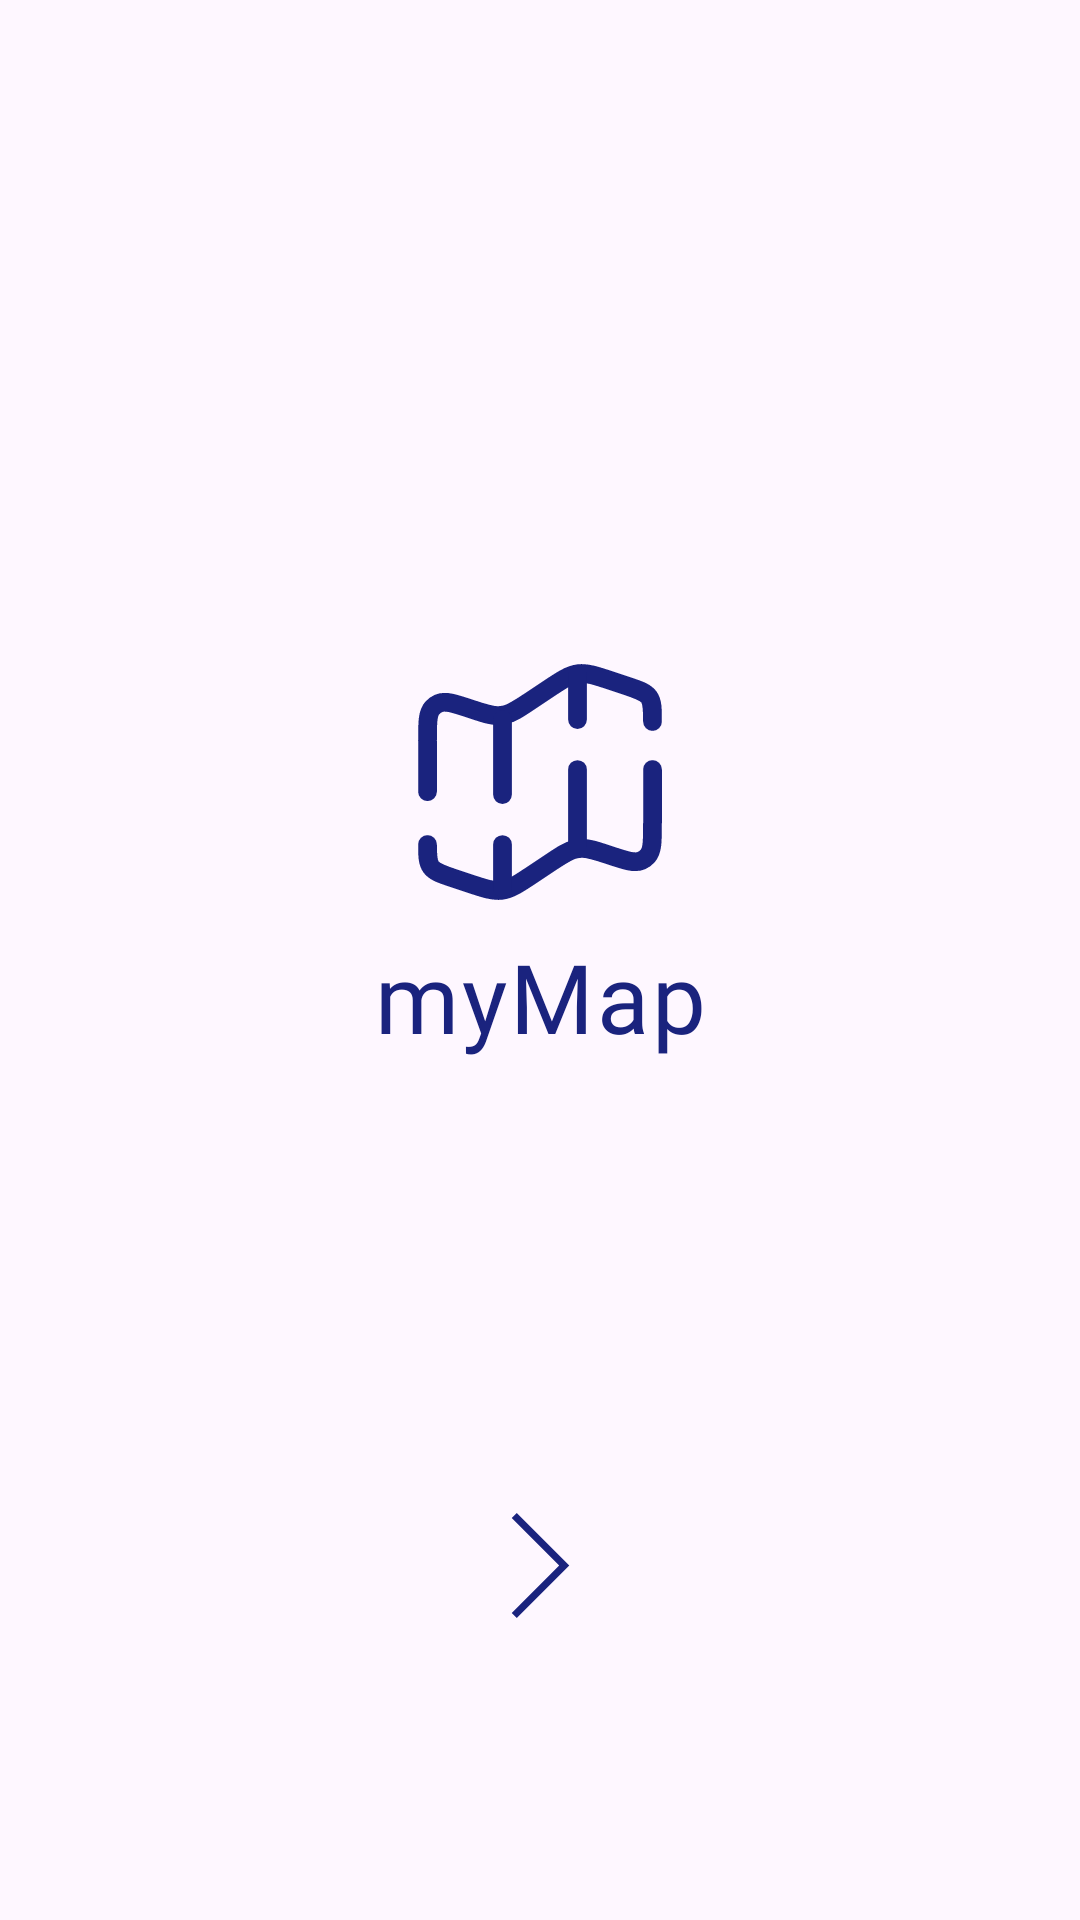

Icons on this 1080x1920 Android screen, each with the point to tap as (x=x, y=y):
arrow open end: (x=540, y=1565)
